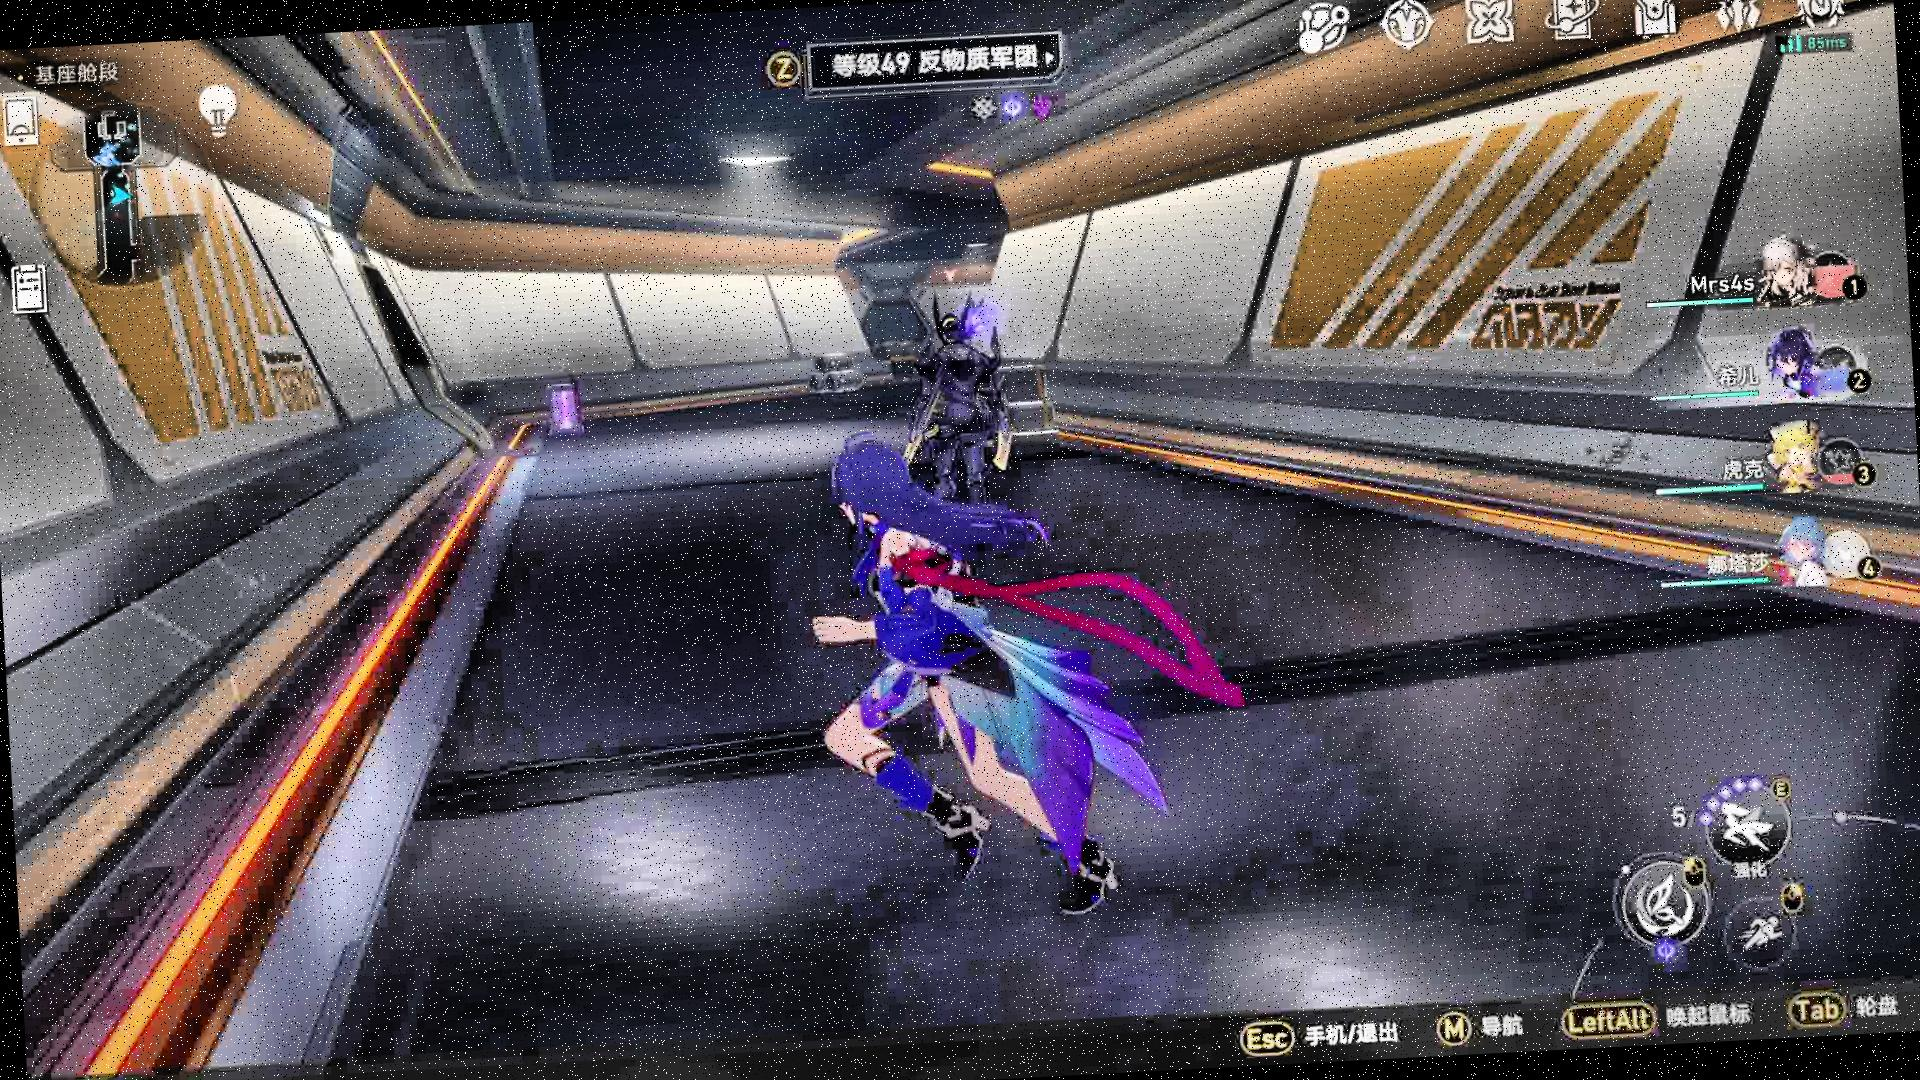Box: (803, 349, 860, 397)
Enemy: (901, 284, 1013, 508)
Self: (800, 410, 1253, 934)
